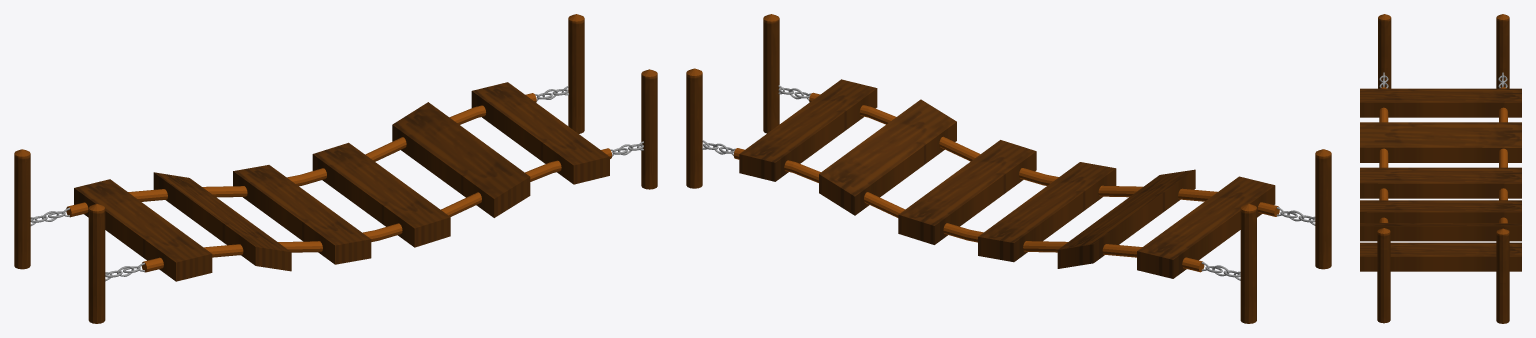
3 renders of one model, left to right at view 1: azimuth 30°, elevation 25°; view 2: azimuth 150°, elevation 25°; view 3: azimuth 270°, elevation 25°, orthographic. The views are drawn at different scales.
Parts seen in each view (by area): view 1: Ponte 2_2; view 2: Ponte 2_2; view 3: Ponte 2_2.
Boxes of the visible parts, x1,y1,x2,y2 form: Ponte 2_2: [14, 14, 657, 323]; Ponte 2_2: [686, 14, 1331, 323]; Ponte 2_2: [1360, 14, 1521, 323].
Bounding box in the file's own units: 14.29 × 2.81 × 4.44.
1 material, 1 textured.
